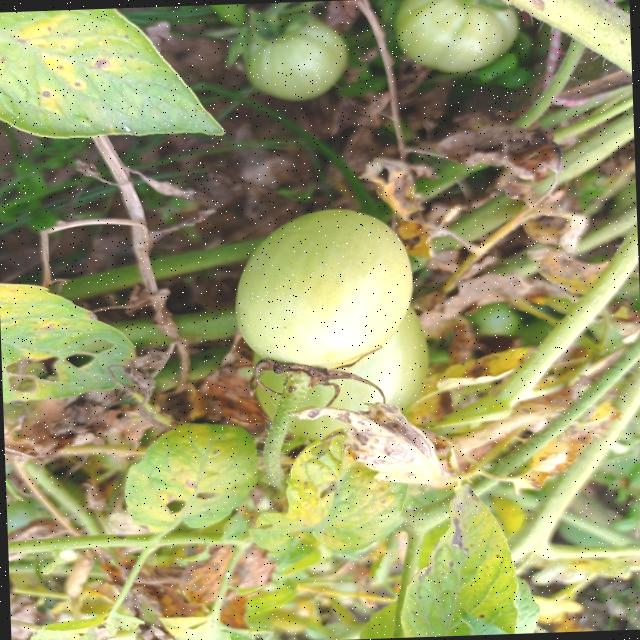Unripe: (234, 207, 418, 376), (393, 0, 523, 75), (240, 15, 347, 101)
